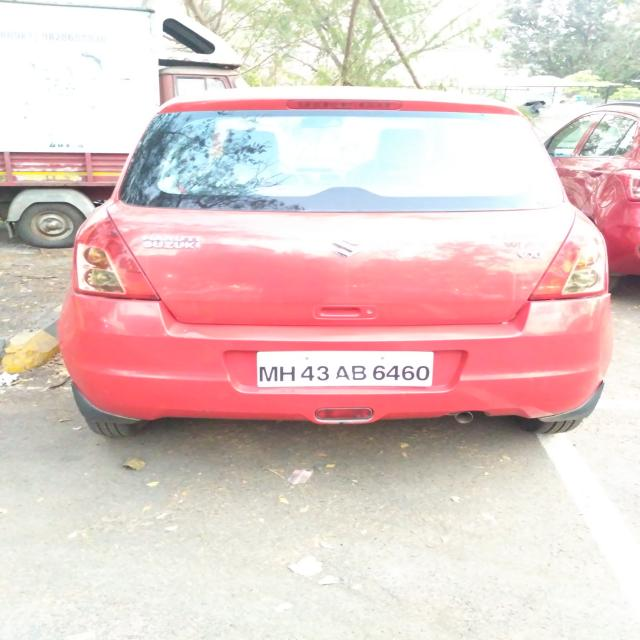Number-Plate: (256, 352, 435, 390)
